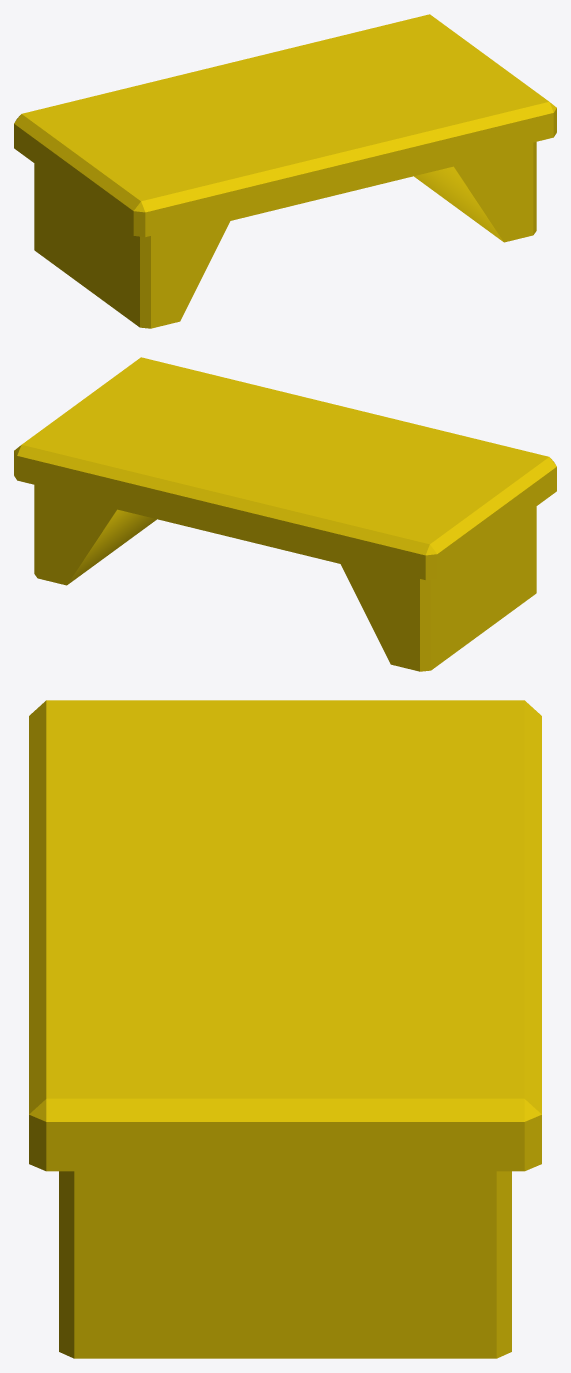
Rendered from Small_Banch.fbx.
3 renders of one model, top to bottom at view 1: azimuth 30°, elevation 25°; view 2: azimuth 150°, elevation 25°; view 3: azimuth 270°, elevation 25°, orthographic. The views are drawn at different scales.
Parts seen in each view (by area): view 1: Small_Table; view 2: Small_Table; view 3: Small_Table.
Part boxes in pixels (x1,y1,x2,y2): Small_Table: (14,14,556,328); Small_Table: (14,357,556,671); Small_Table: (29,700,541,1358).
Size of the model in its own units: 2.86 by 0.8564 by 1.5.
